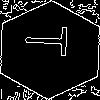T: (25, 25, 78, 57)
